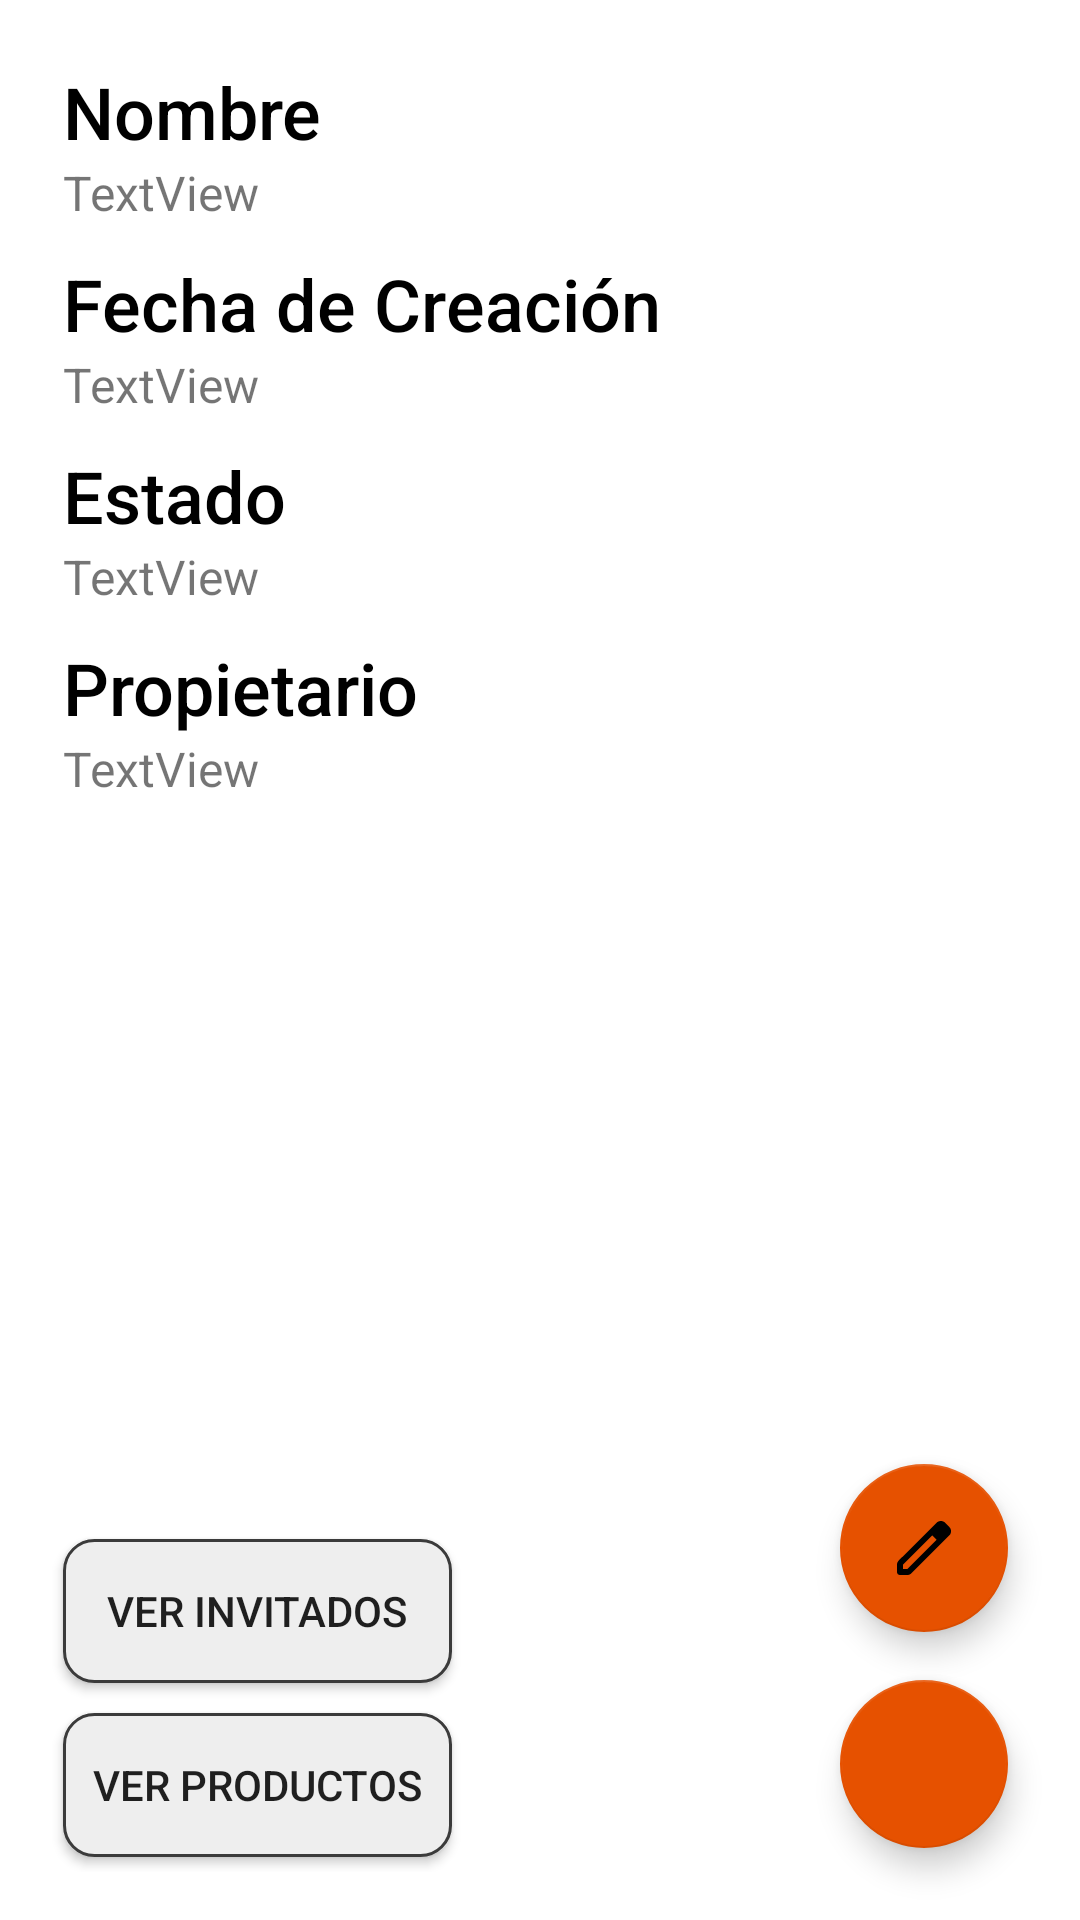

Point at icon controls on the screen. Image size 1080*1920, points as (x,y).
edit: (924,1548)
